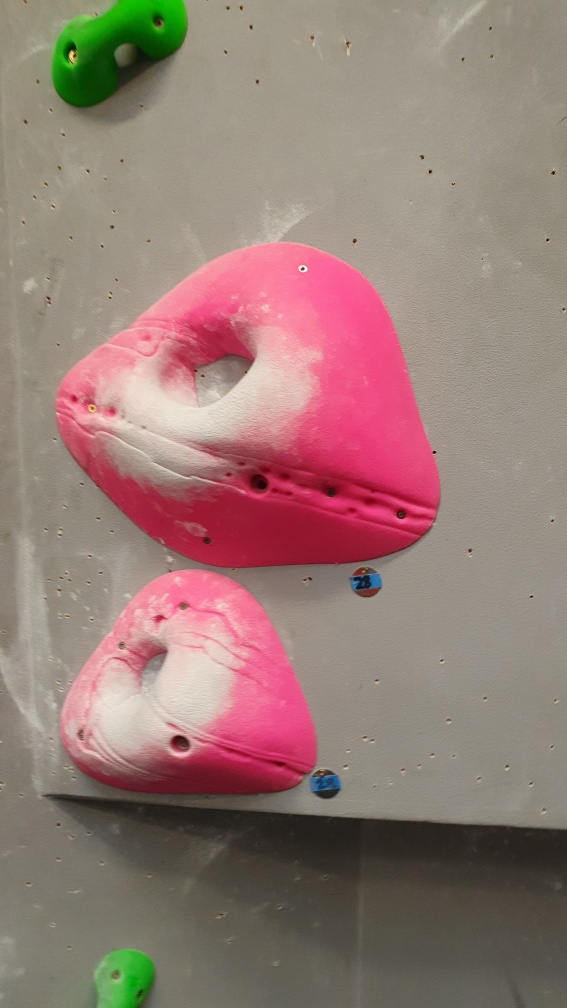Hand Start: (345, 565, 388, 601), (306, 767, 342, 802)
Pocket: (52, 237, 444, 570), (59, 568, 324, 798)
